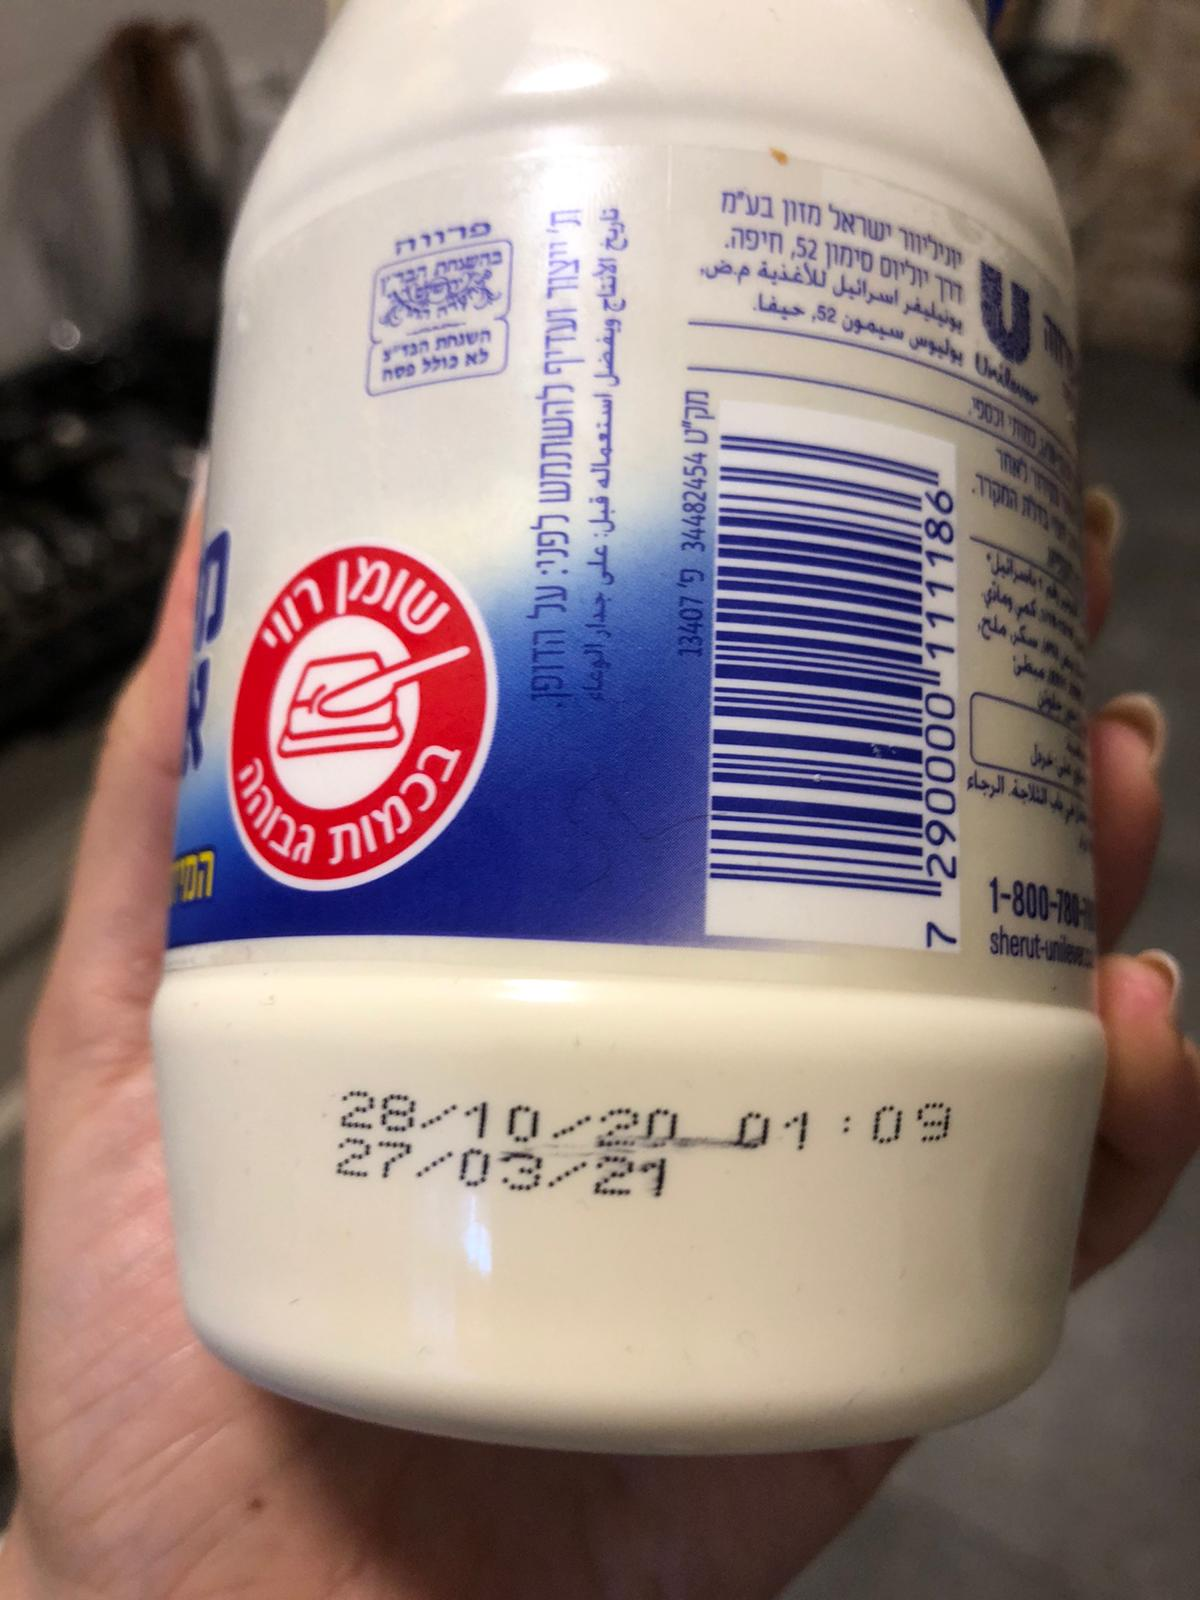fat: (229, 546, 497, 891)
